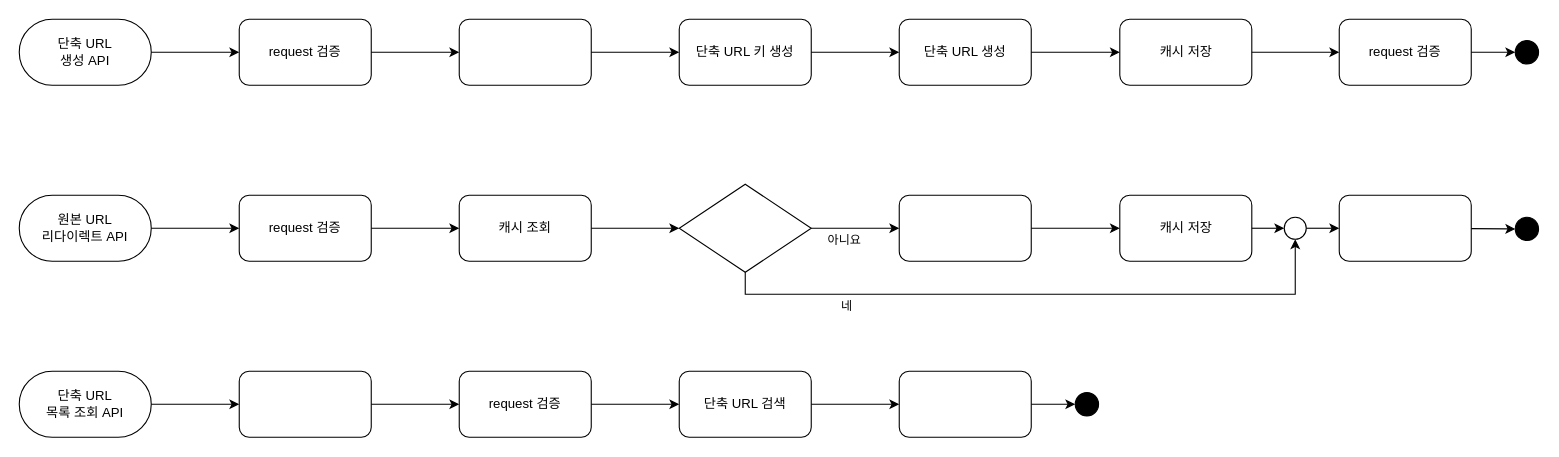
This 1559x457 diagram has some shape labels left out. The centre of each missing label's shape, as x and y in pixels:
"current count 조회" belongs at point (524, 51).
"response 검증" belongs at point (964, 403).
"관리자 검증" belongs at point (304, 403).
"단축 URL 단건 검색" belongs at point (964, 227).
"단축 URL 방문 카운트 증가" belongs at point (1404, 227).
"캐시가 존재하는가?" belongs at point (744, 227).
